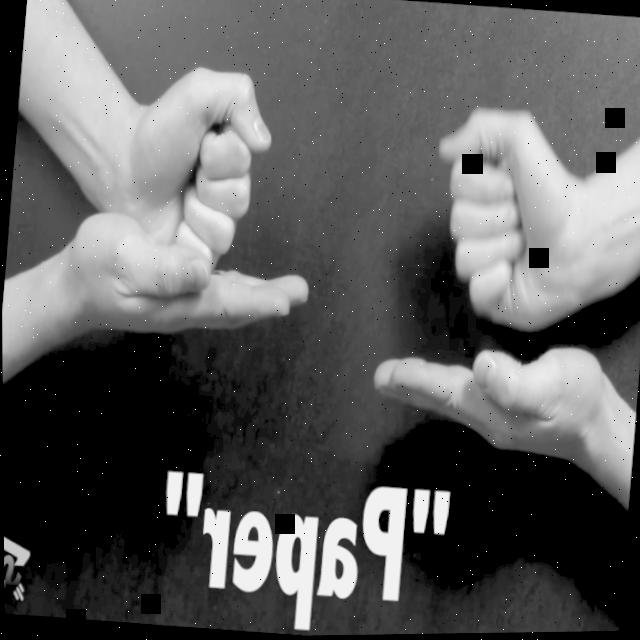Rock: (421, 104, 592, 334), (93, 59, 275, 275)
